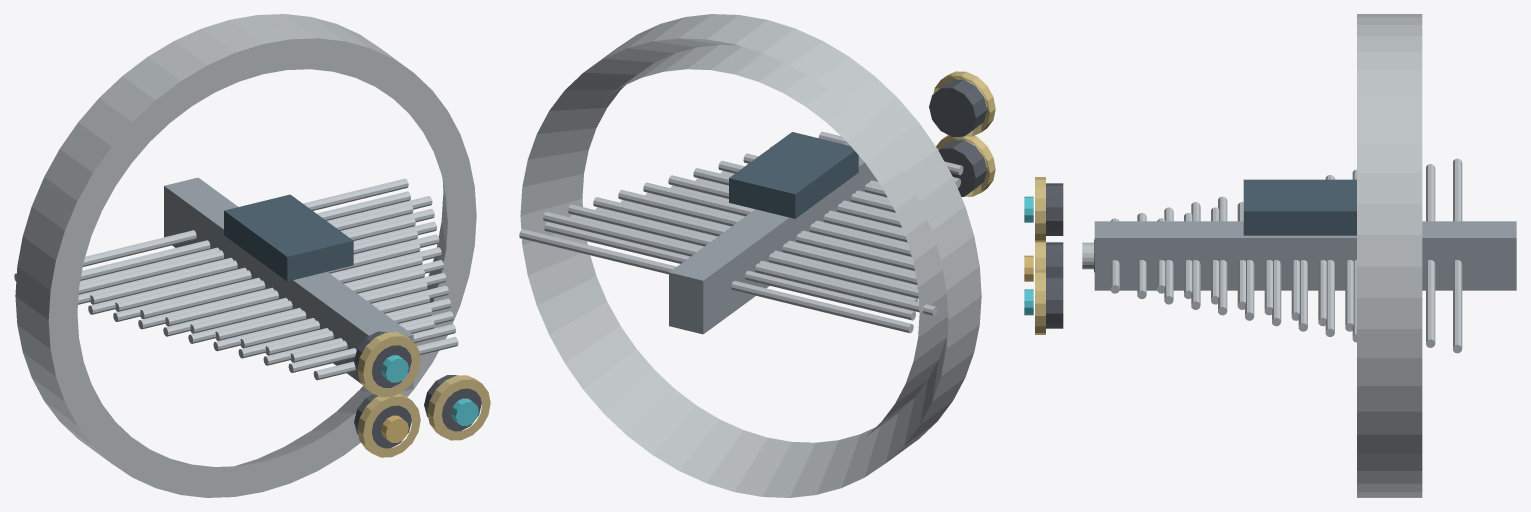
The model's file is 35_L82_AntennaPolarizationRotationHead.glb.
3 views of the same model, side by side, from view 1: azimuth 30°, elevation 25°; view 2: azimuth 150°, elevation 25°; view 3: azimuth 270°, elevation 25° (orthographic). The views are drawn at different scales.
Parts seen in each view (by area): view 1: AntennaPolarizationRotationHead_Node_0000, AntennaPolarizationRotationHead_Node_0001, AntennaPolarizationRotationHead_Node_0076, AntennaPolarizationRotationHead_Node_0039, AntennaPolarizationRotationHead_Node_0038, AntennaPolarizationRotationHead_Node_0008, AntennaPolarizationRotationHead_Node_0005, AntennaPolarizationRotationHead_Node_0002, AntennaPolarizationRotationHead_Node_0011, AntennaPolarizationRotationHead_Node_0014, AntennaPolarizationRotationHead_Node_0017, AntennaPolarizationRotationHead_Node_0020 (+26 smaller); view 2: AntennaPolarizationRotationHead_Node_0000, AntennaPolarizationRotationHead_Node_0001, AntennaPolarizationRotationHead_Node_0038, AntennaPolarizationRotationHead_Node_0002, AntennaPolarizationRotationHead_Node_0040, AntennaPolarizationRotationHead_Node_0005, AntennaPolarizationRotationHead_Node_0043, AntennaPolarizationRotationHead_Node_0046, AntennaPolarizationRotationHead_Node_0076, AntennaPolarizationRotationHead_Node_0083, AntennaPolarizationRotationHead_Node_0049, AntennaPolarizationRotationHead_Node_0039 (+12 smaller); view 3: AntennaPolarizationRotationHead_Node_0000, AntennaPolarizationRotationHead_Node_0001, AntennaPolarizationRotationHead_Node_0039, AntennaPolarizationRotationHead_Node_0076, AntennaPolarizationRotationHead_Node_0038, AntennaPolarizationRotationHead_Node_0002, AntennaPolarizationRotationHead_Node_0005, AntennaPolarizationRotationHead_Node_0080, AntennaPolarizationRotationHead_Node_0083, AntennaPolarizationRotationHead_Node_0049, AntennaPolarizationRotationHead_Node_0061, AntennaPolarizationRotationHead_Node_0081 (+11 smaller).
Boxes of the visible parts, left/top/right/bottom form: AntennaPolarizationRotationHead_Node_0000: left=15, top=14, right=476, bottom=497; AntennaPolarizationRotationHead_Node_0001: left=164, top=177, right=355, bottom=379; AntennaPolarizationRotationHead_Node_0076: left=247, top=223, right=353, bottom=281; AntennaPolarizationRotationHead_Node_0039: left=188, top=195, right=413, bottom=390; AntennaPolarizationRotationHead_Node_0038: left=224, top=194, right=329, bottom=252; AntennaPolarizationRotationHead_Node_0008: left=78, top=204, right=413, bottom=294; AntennaPolarizationRotationHead_Node_0005: left=80, top=191, right=410, bottom=280; AntennaPolarizationRotationHead_Node_0002: left=14, top=178, right=408, bottom=281; AntennaPolarizationRotationHead_Node_0011: left=90, top=217, right=415, bottom=304; AntennaPolarizationRotationHead_Node_0014: left=115, top=230, right=417, bottom=311; AntennaPolarizationRotationHead_Node_0017: left=140, top=242, right=420, bottom=318; AntennaPolarizationRotationHead_Node_0020: left=165, top=255, right=422, bottom=326; AntennaPolarizationRotationHead_Node_0000: left=520, top=14, right=981, bottom=497; AntennaPolarizationRotationHead_Node_0001: left=669, top=162, right=878, bottom=334; AntennaPolarizationRotationHead_Node_0038: left=729, top=149, right=834, bottom=218; AntennaPolarizationRotationHead_Node_0002: left=519, top=229, right=913, bottom=333; AntennaPolarizationRotationHead_Node_0040: left=543, top=211, right=937, bottom=315; AntennaPolarizationRotationHead_Node_0005: left=544, top=222, right=915, bottom=320; AntennaPolarizationRotationHead_Node_0043: left=568, top=204, right=918, bottom=298; AntennaPolarizationRotationHead_Node_0046: left=593, top=197, right=917, bottom=284; AntennaPolarizationRotationHead_Node_0076: left=769, top=132, right=858, bottom=201; AntennaPolarizationRotationHead_Node_0083: left=929, top=79, right=987, bottom=136; AntennaPolarizationRotationHead_Node_0049: left=618, top=190, right=914, bottom=270; AntennaPolarizationRotationHead_Node_0039: left=693, top=142, right=864, bottom=263; AntennaPolarizationRotationHead_Node_0000: left=1357, top=14, right=1422, bottom=497; AntennaPolarizationRotationHead_Node_0001: left=1141, top=221, right=1516, bottom=290; AntennaPolarizationRotationHead_Node_0039: left=1094, top=221, right=1470, bottom=290; AntennaPolarizationRotationHead_Node_0076: left=1243, top=179, right=1321, bottom=235; AntennaPolarizationRotationHead_Node_0038: left=1290, top=179, right=1356, bottom=235; AntennaPolarizationRotationHead_Node_0002: left=1453, top=158, right=1462, bottom=353; AntennaPolarizationRotationHead_Node_0005: left=1426, top=164, right=1435, bottom=347; AntennaPolarizationRotationHead_Node_0080: left=1046, top=276, right=1063, bottom=328; AntennaPolarizationRotationHead_Node_0083: left=1046, top=183, right=1063, bottom=235; AntennaPolarizationRotationHead_Node_0049: left=1325, top=175, right=1334, bottom=336; AntennaPolarizationRotationHead_Node_0061: left=1218, top=196, right=1227, bottom=315; AntennaPolarizationRotationHead_Node_0081: left=1035, top=269, right=1045, bottom=334.
Size of the model in its own units: 1.04 by 1.04 by 1.06.
